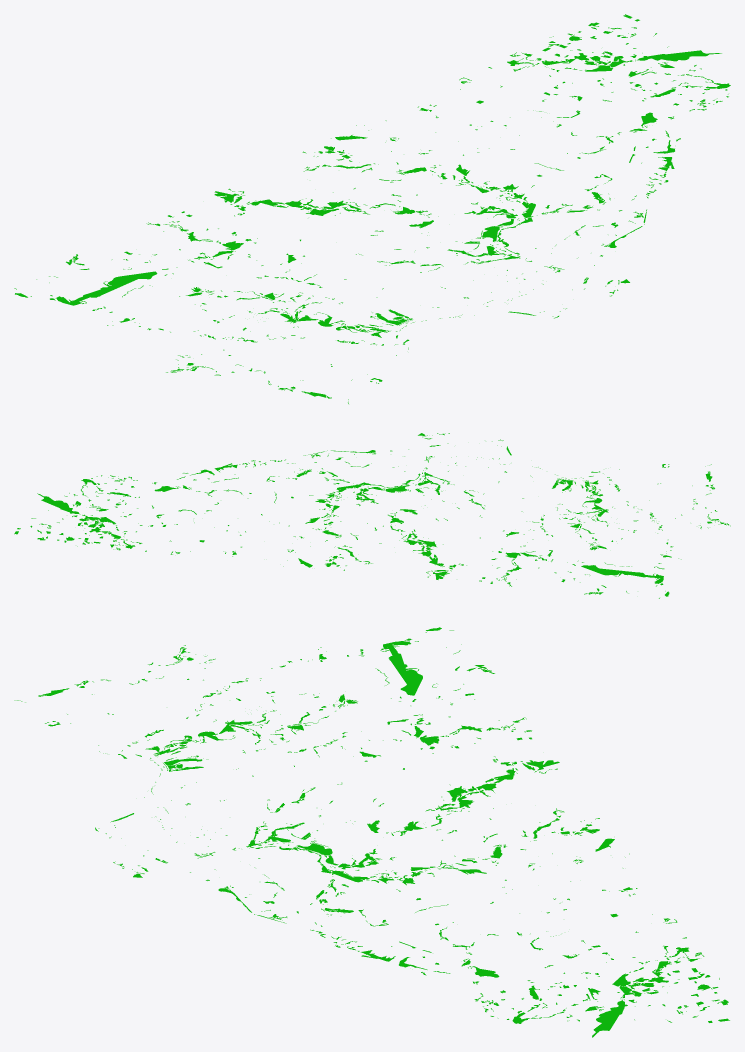
File: natural.fbx
3 renders of one model, top to bottom at view 1: azimuth 30°, elevation 25°; view 2: azimuth 150°, elevation 25°; view 3: azimuth 270°, elevation 25°, orthographic. The views are drawn at different scales.
Visible parts, largest first — view 1: natural; view 2: natural; view 3: natural.
Part boxes in pixels (x1,y1,x2,y2): natural: (14, 14, 730, 403); natural: (14, 433, 730, 598); natural: (14, 627, 729, 1037).
Bounding box in the file's own units: 56626 × 77.17 × 41783.
